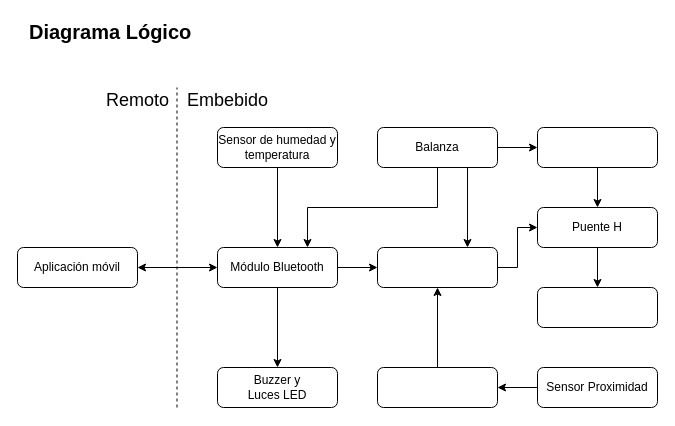
This 675x426 diagram has some shape labels left out. Here are the shapes that lost their labels. From the top down, the box of each, then its label:
(536, 126, 658, 168): Detener movimiento
(376, 246, 498, 288): Comenzar movimiento
(536, 286, 658, 328): Motor de Corriente Continua
(376, 366, 498, 408): Hay recipiente colocado
